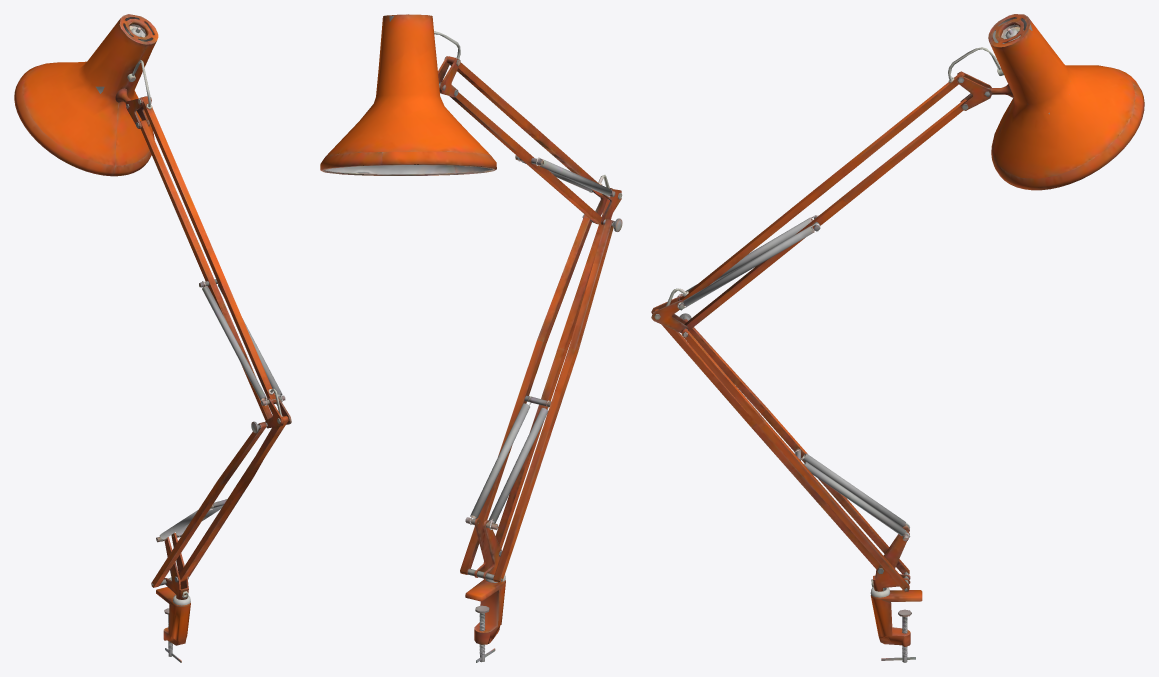
File: prop-desk-lamp-arm-01.glb
The picture shows the model from 3 angles, left to right: view 1: azimuth 30°, elevation 25°; view 2: azimuth 150°, elevation 25°; view 3: azimuth 270°, elevation 25°; orthographic projection. The views are drawn at different scales.
Visible parts, largest first — view 1: desk_lamp_arm_01; view 2: desk_lamp_arm_01; view 3: desk_lamp_arm_01.
Part boxes in pixels (x1,y1,x2,y2): desk_lamp_arm_01: [14, 14, 291, 662]; desk_lamp_arm_01: [320, 14, 622, 662]; desk_lamp_arm_01: [651, 14, 1144, 662].
Size of the model in its own units: 0.2017 by 0.8926 by 0.6139.
2 materials, 2 textured.
